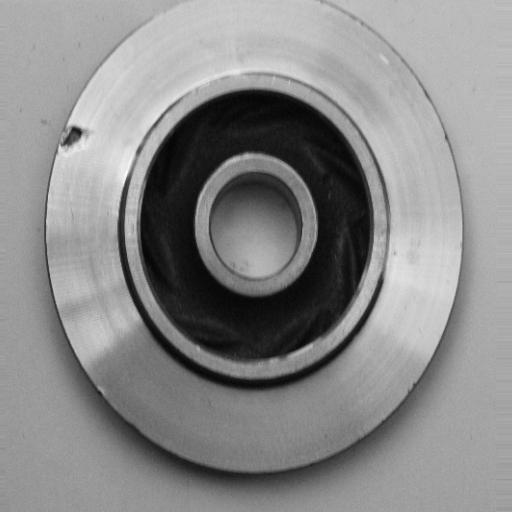crack: (49, 117, 110, 159)
scratch: (183, 61, 250, 96)
unpolished_casting: (44, 1, 467, 478)
